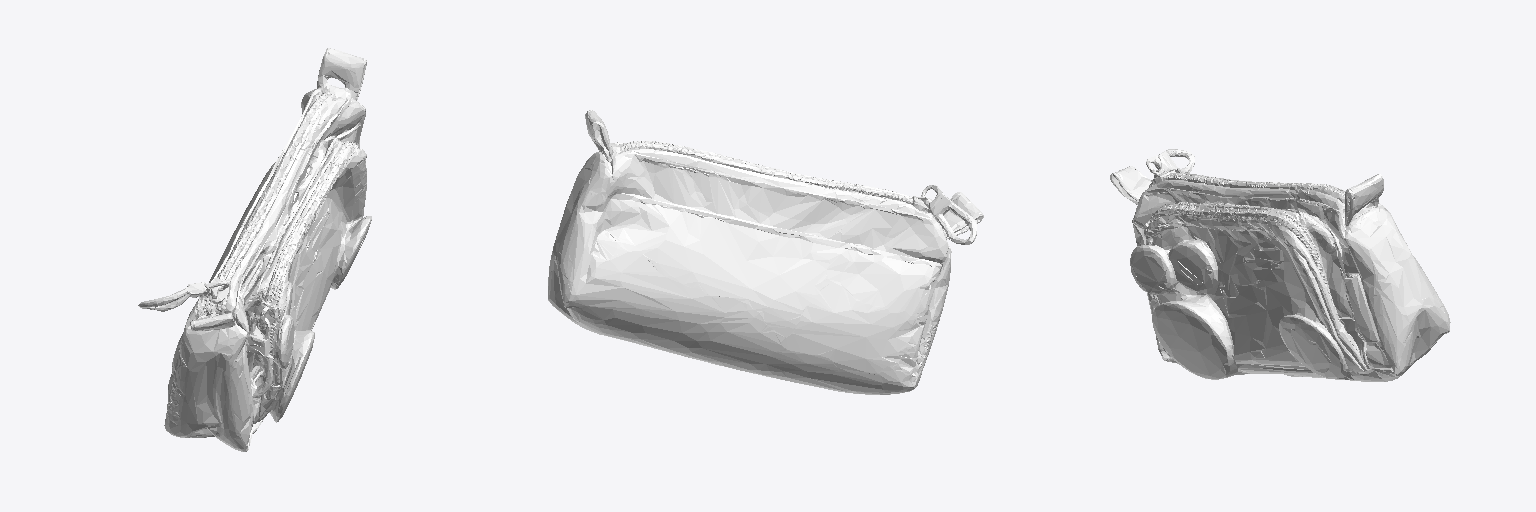
File: penal.obj
3 renders of one model, left to right at view 1: azimuth 30°, elevation 25°; view 2: azimuth 150°, elevation 25°; view 3: azimuth 270°, elevation 25°, orthographic.
Size of the model in its own units: 168 by 141 by 154.